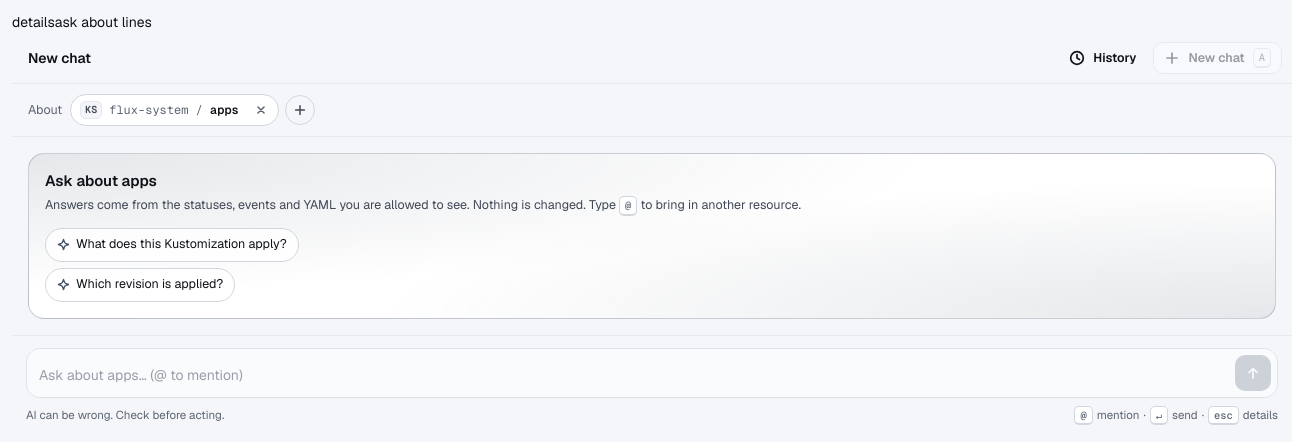
Ask AI chats › reopens the chat after a reload of the tab
Type "first" into the dropdown named "Ask AI" at (633, 374), box [39,358,1227,390]
Then press Enter
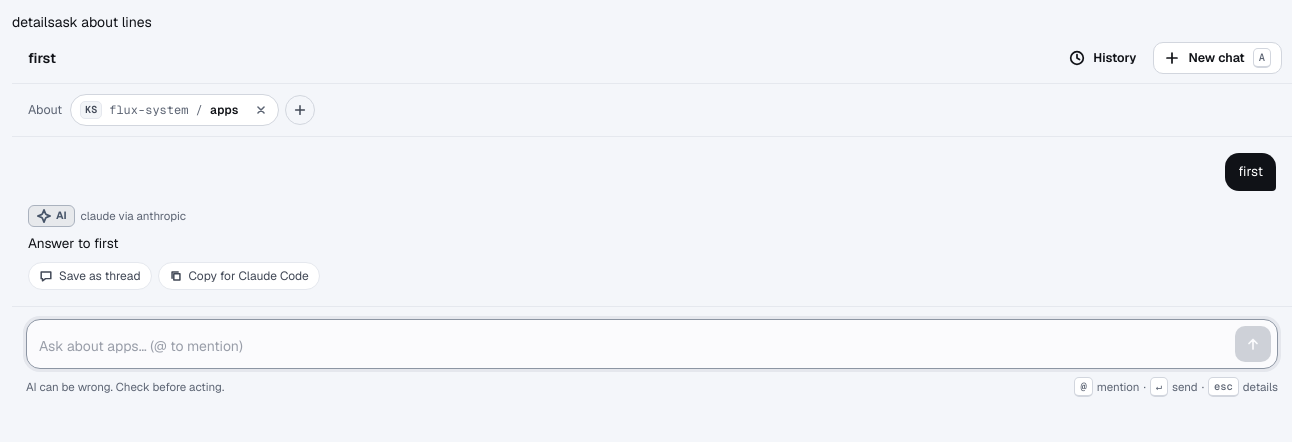
Now the text "Answer to first" is shown, box [28,234,119,252]
